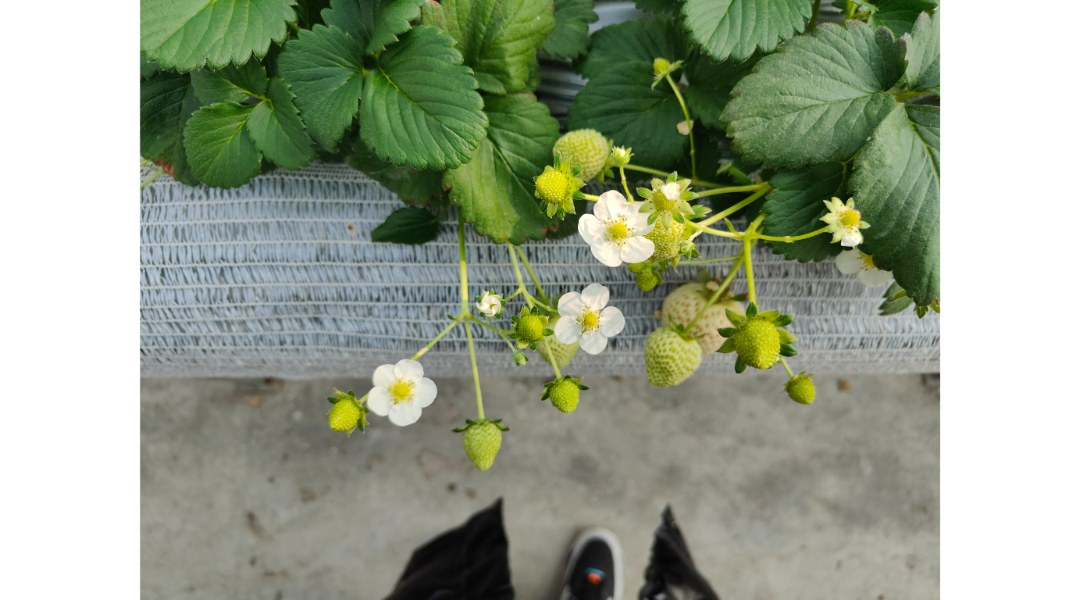berry: (663, 266, 729, 362), (724, 297, 790, 378), (643, 321, 706, 393), (547, 120, 605, 184), (456, 412, 507, 481), (521, 161, 580, 219), (641, 171, 698, 231), (322, 387, 366, 448), (789, 350, 822, 420), (639, 44, 684, 86), (598, 141, 635, 170)
flower: (566, 186, 657, 277), (545, 281, 628, 365), (364, 348, 432, 438), (812, 184, 878, 256), (471, 284, 514, 330)
strain: (459, 332, 496, 429), (666, 77, 701, 167), (454, 217, 477, 310), (413, 321, 457, 369), (687, 184, 756, 202), (763, 224, 821, 245), (743, 241, 758, 312)
